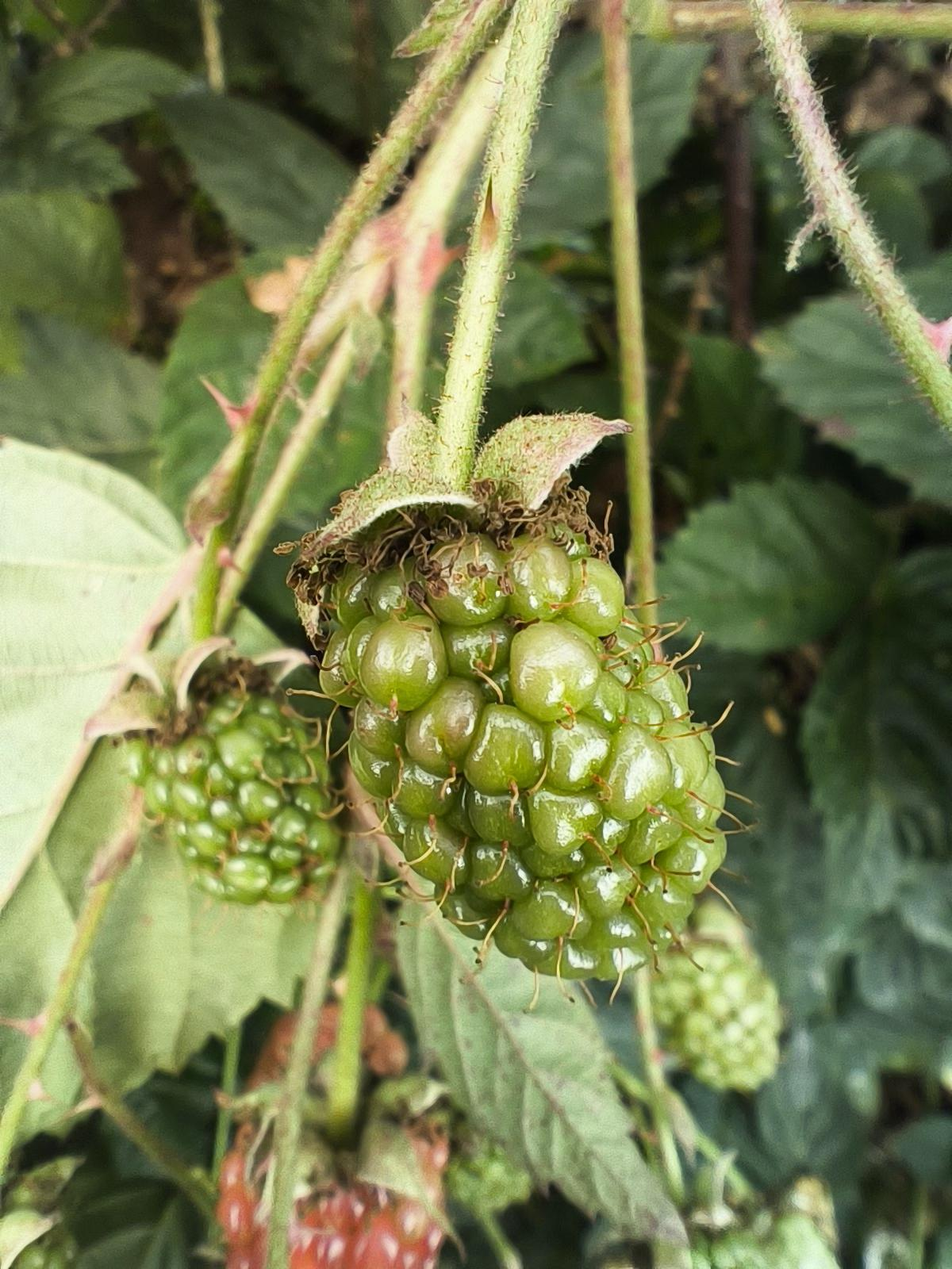verde: (298, 436, 728, 985), (104, 657, 338, 905), (651, 903, 781, 1091)
